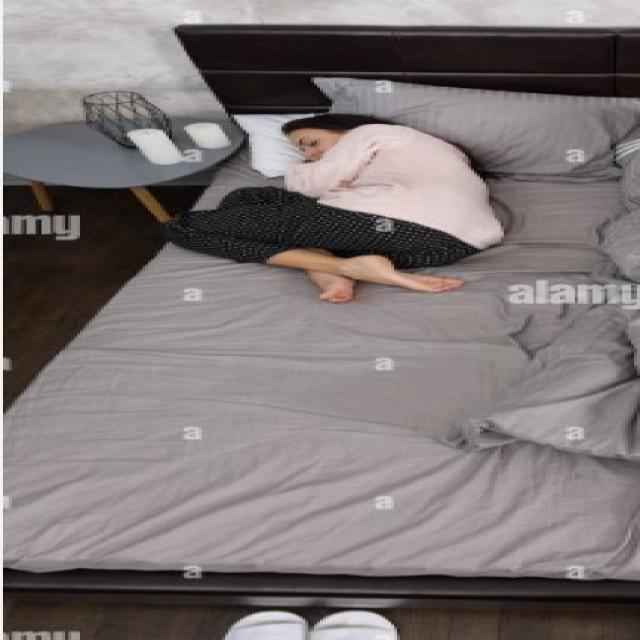sleeping-person: (103, 74, 556, 313)
